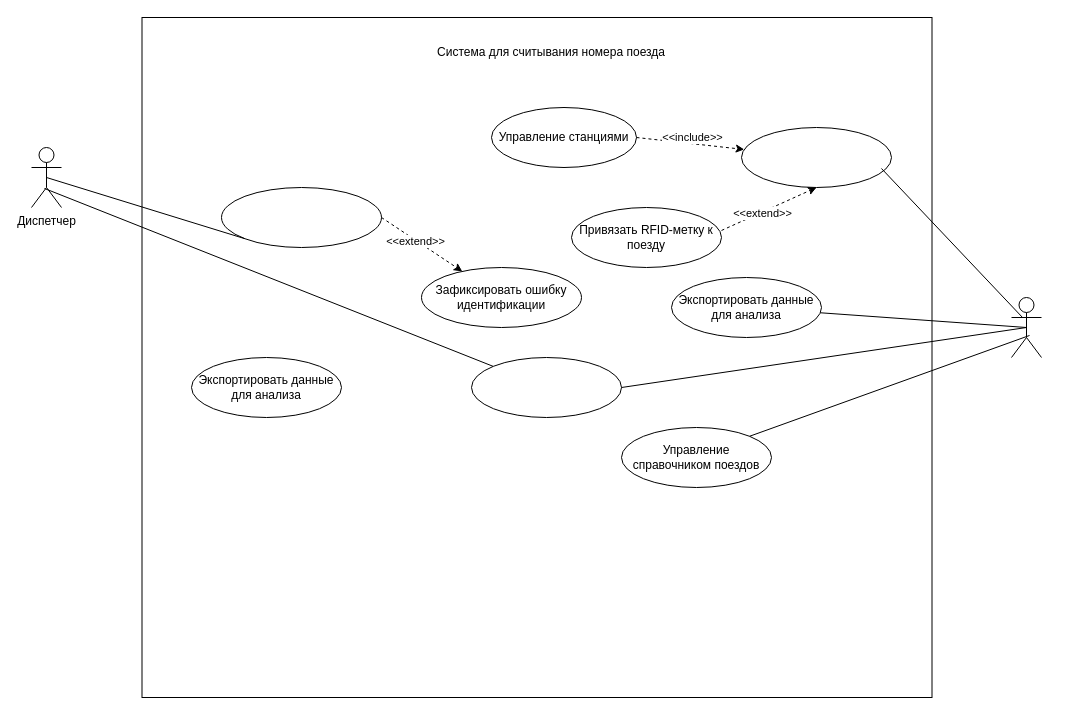
This 1087x715 diagram has some shape labels left out. Here are the shapes that lost their labels. From the top down, the box of each, then its label:
(740, 126, 892, 188): Настройка MQTT-подключения
(220, 186, 382, 248): Зафиксировать прибытие поезда
(1010, 296, 1042, 358): Администратор
(470, 356, 622, 418): Просмотреть журнал событий
